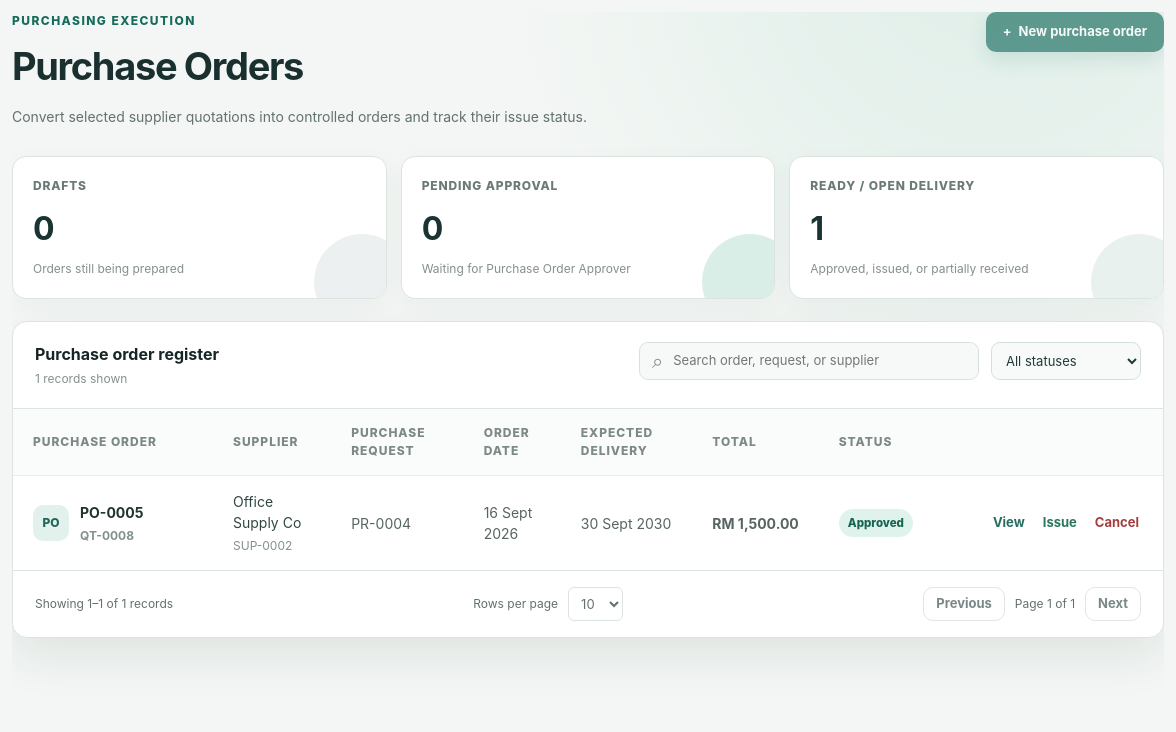
Test case: PurchaseOrderListView › issues an approved order, shows a toast, and reloads the register
The width and height of the screenshot is (1176, 732).
Click the button "Issue".
click(1060, 523)  # box [1039,509,1081,537]
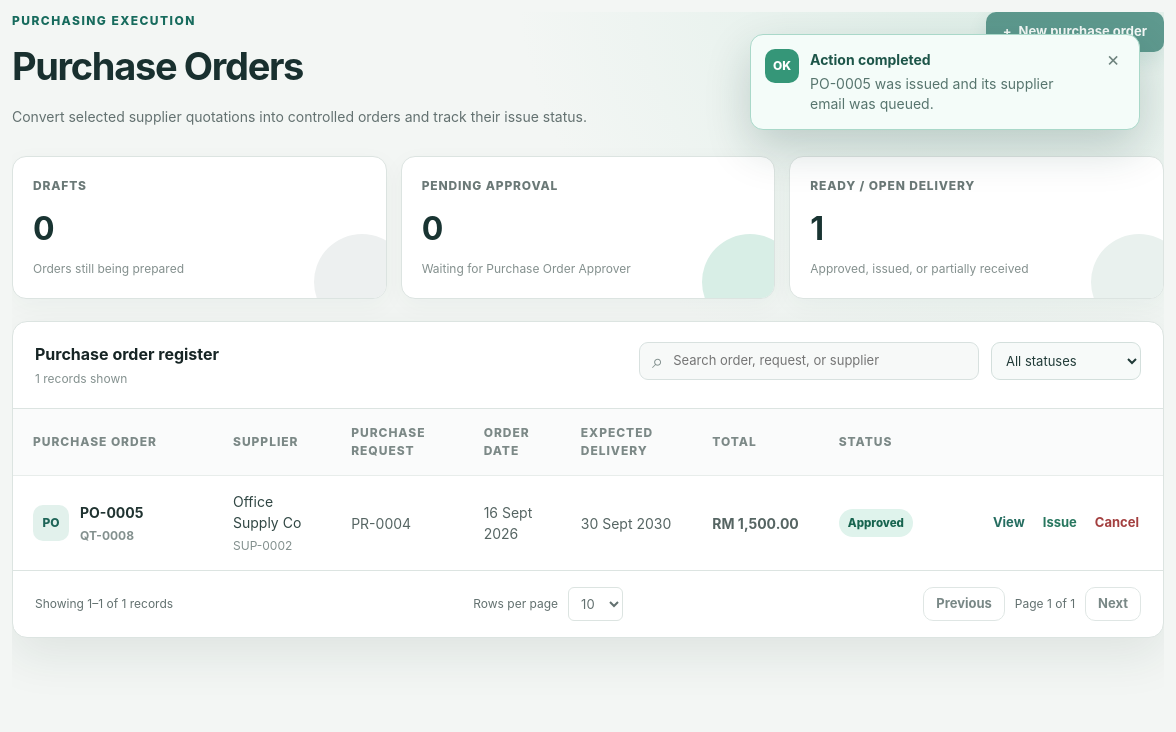
Check: the message with class "success-toast" shows "PO-0005 was issued", box [810,75,1053,112]
